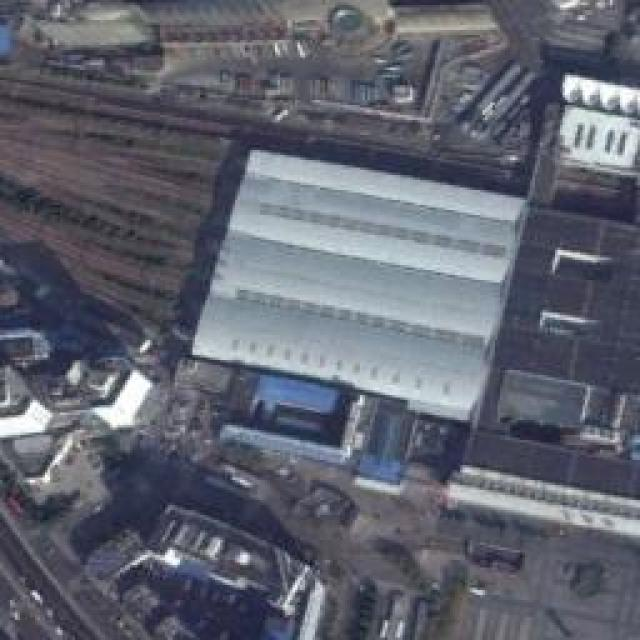Railway: (0, 74, 632, 408)
